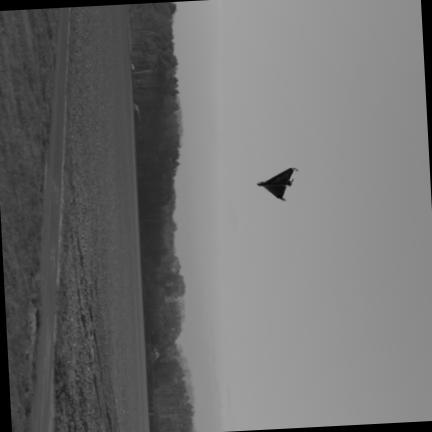Shahed: (257, 168, 297, 201)
